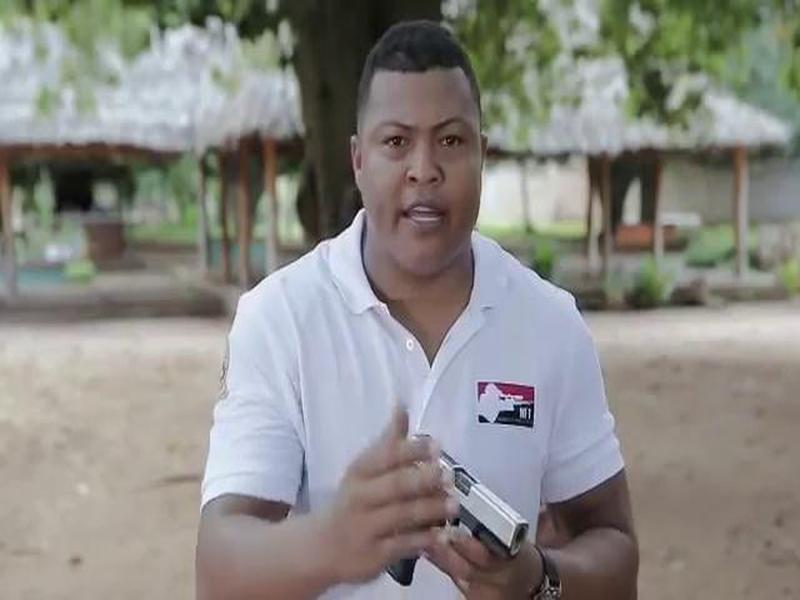Pistola: (386, 430, 533, 595)
